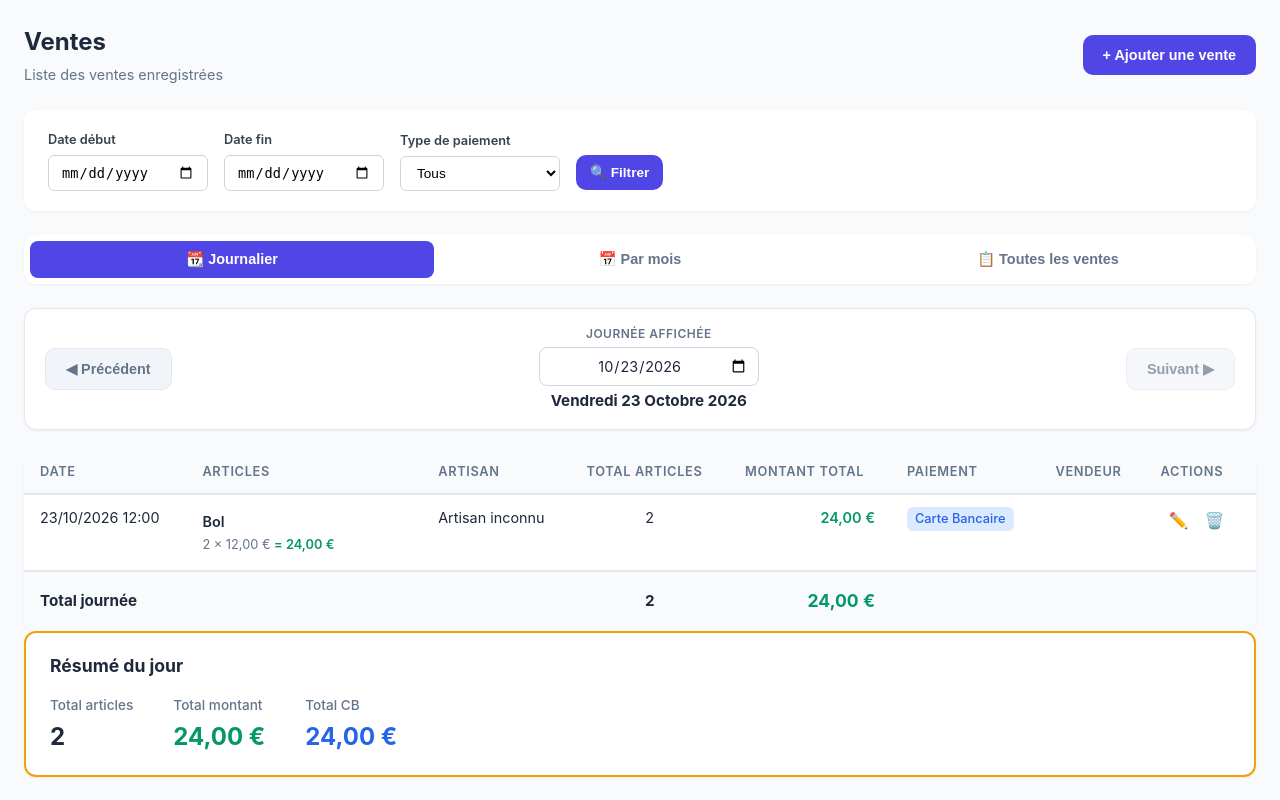
Test: VentesView › navigue entre les jours puis permet de revenir a aujourd hui
Click the button with test id "day-prev" at (108, 369), box left=45, top=348, right=172, bottom=390
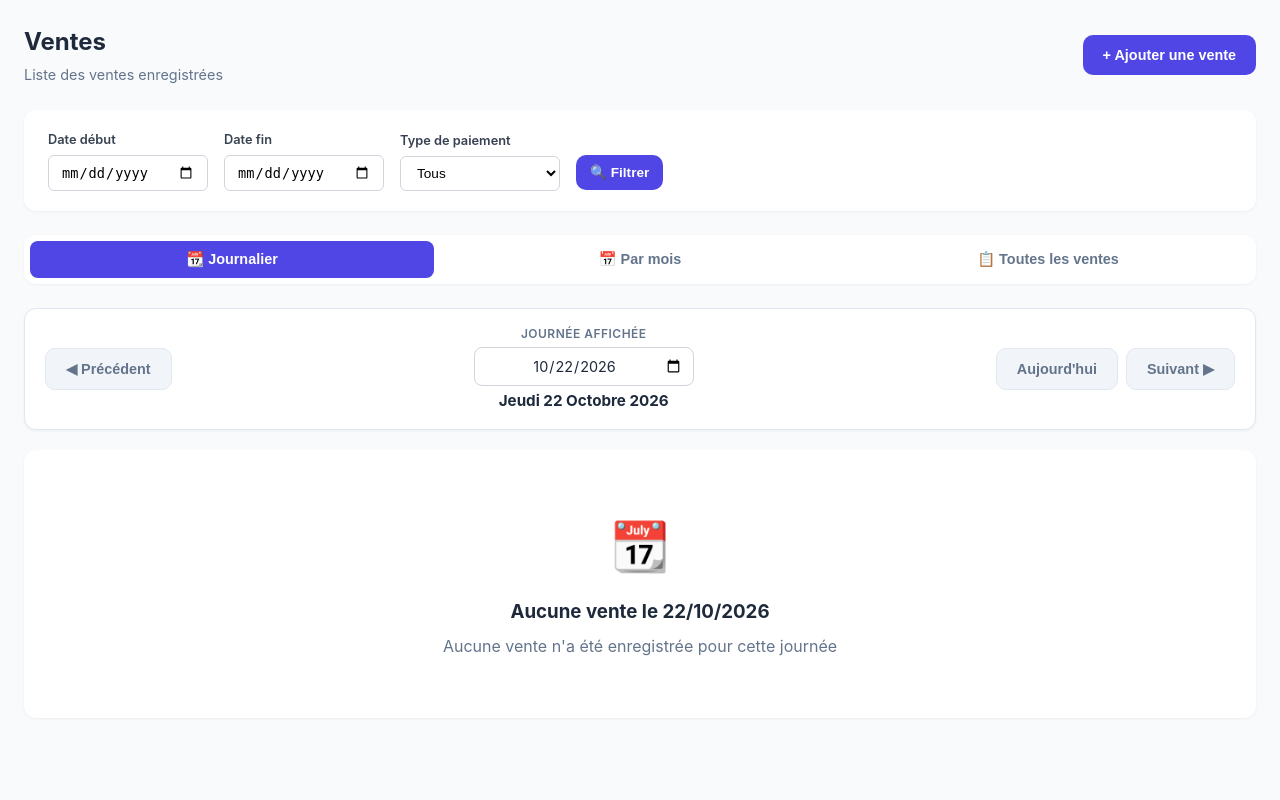
Expected: the button with test id "day-today" is shown
Expected: the button with test id "day-next" is enabled, left=1126, top=348, right=1235, bottom=390
Click the button with test id "day-today" at (1057, 369), box left=996, top=348, right=1118, bottom=390
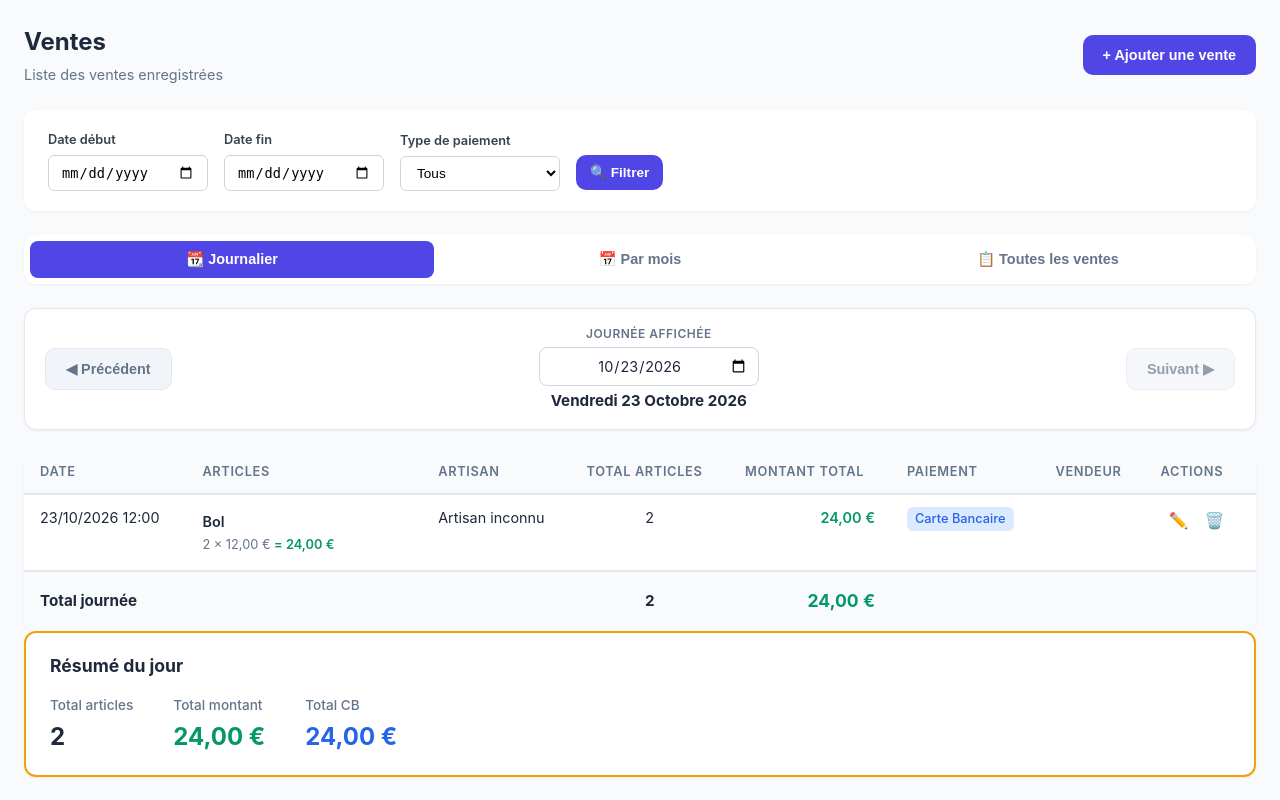
Expected: the button with test id "day-next" is disabled, left=1126, top=348, right=1235, bottom=390
